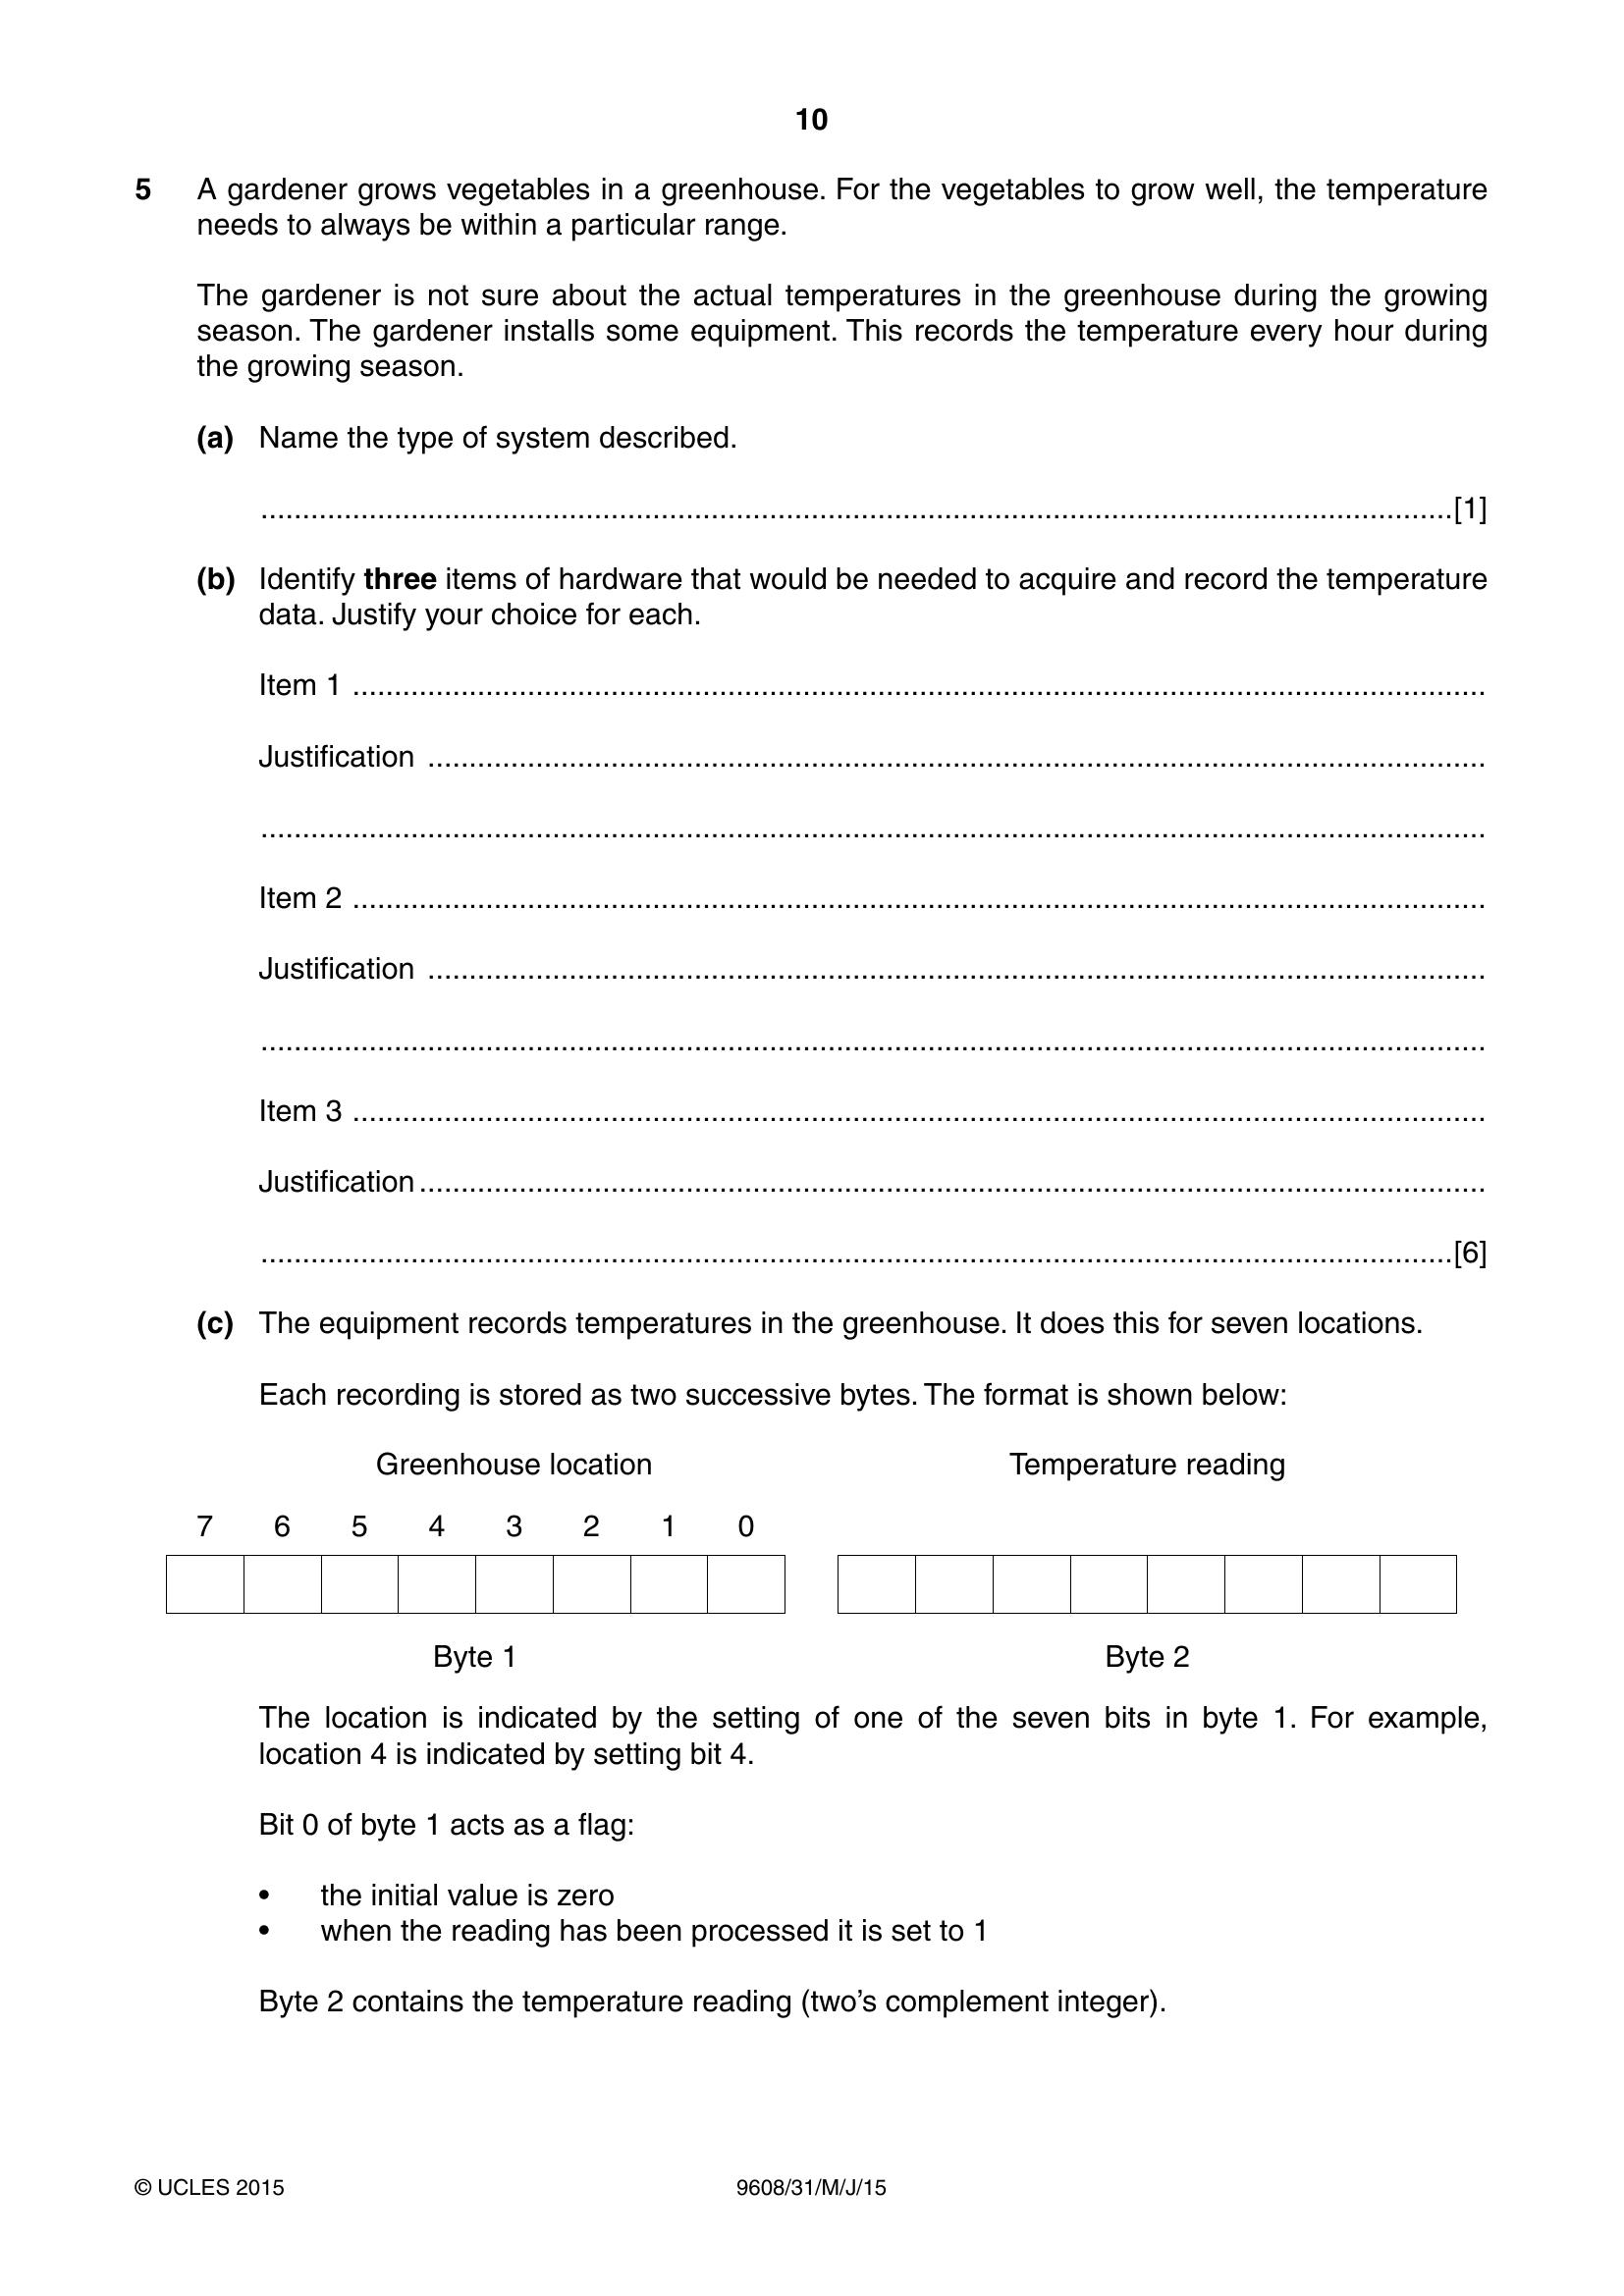continued question: (4, 144, 1624, 2043)
